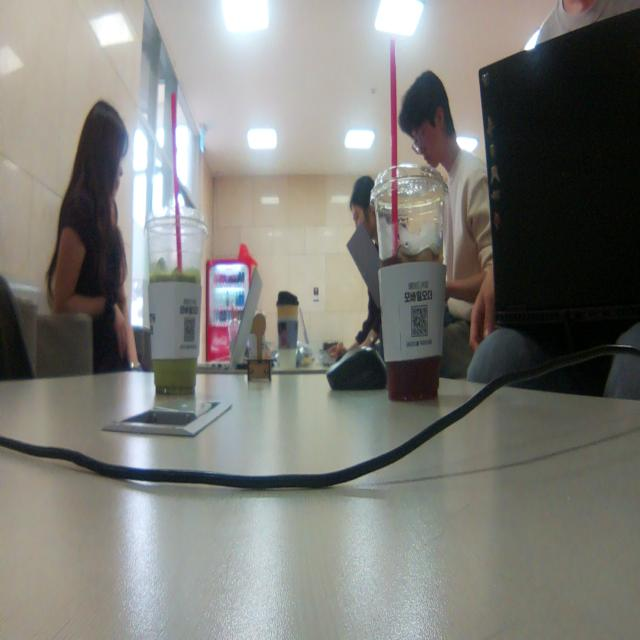target: (247, 311, 273, 384)
